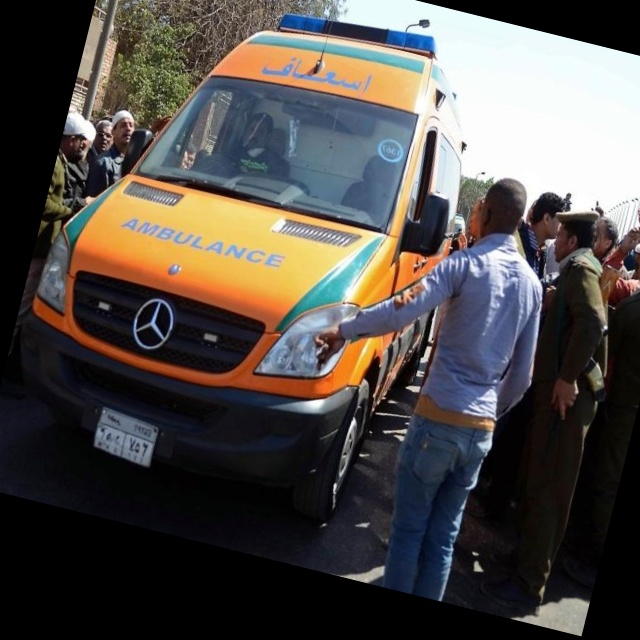Ambulance: (0, 0, 510, 540)
person: (261, 141, 579, 610)
